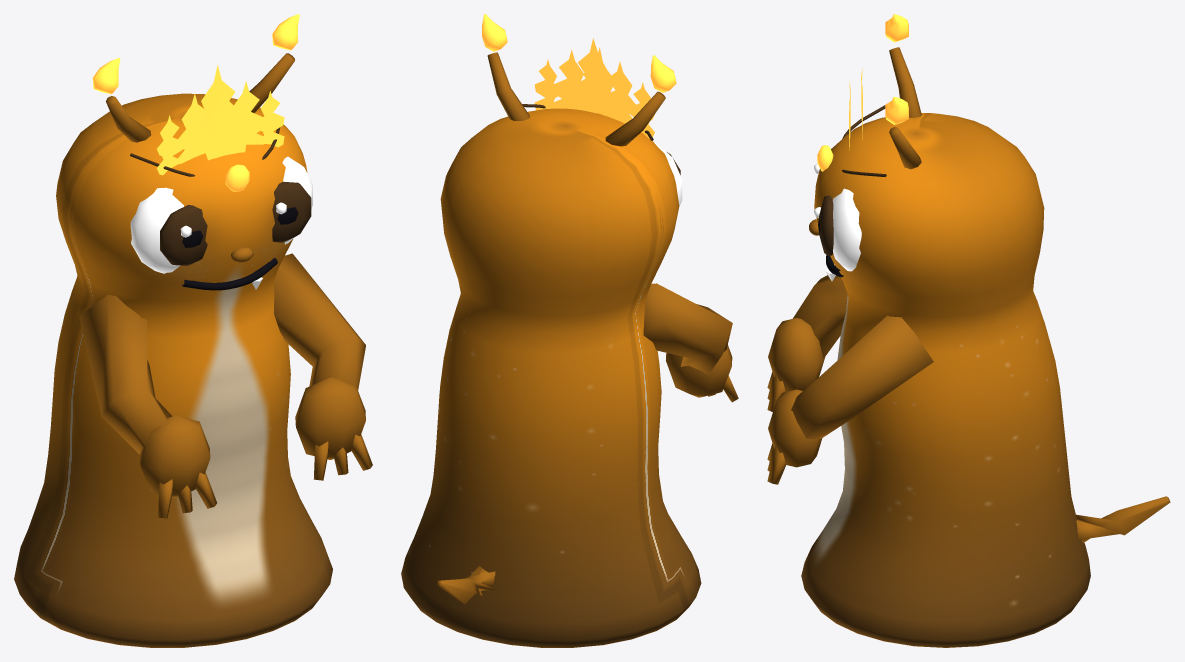
Rendered from bengala_pixar.glb.
3 renders of one model, left to right at view 1: azimuth 30°, elevation 25°; view 2: azimuth 150°, elevation 25°; view 3: azimuth 270°, elevation 25°, orthographic. The views are drawn at different scales.
Visible parts, largest first — view 1: bengala_cuerpo; view 2: bengala_cuerpo; view 3: bengala_cuerpo.
Boxes of the visible parts, bbox=[...] form: bengala_cuerpo: bbox=[14, 14, 372, 647]; bengala_cuerpo: bbox=[401, 14, 738, 647]; bengala_cuerpo: bbox=[767, 14, 1170, 647].
Bounding box in the file's own units: 0.299 × 0.58 × 0.3961.
5 materials, 1 textured.
